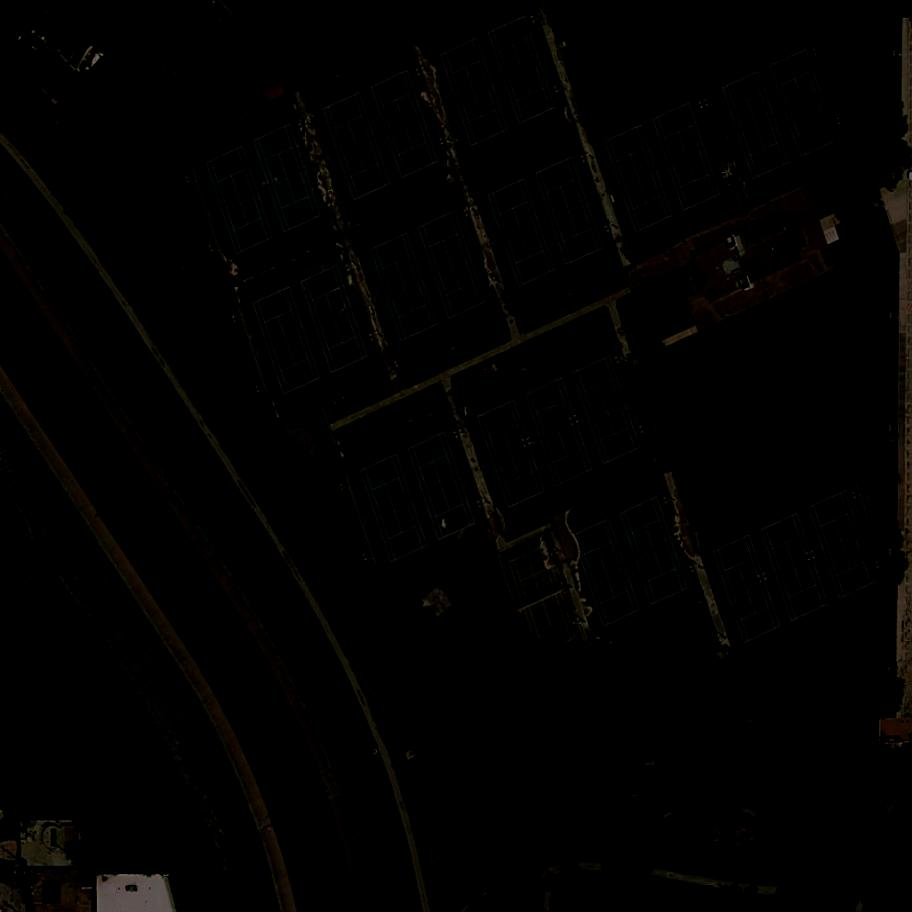small-vehicle: (42, 879, 63, 904)
